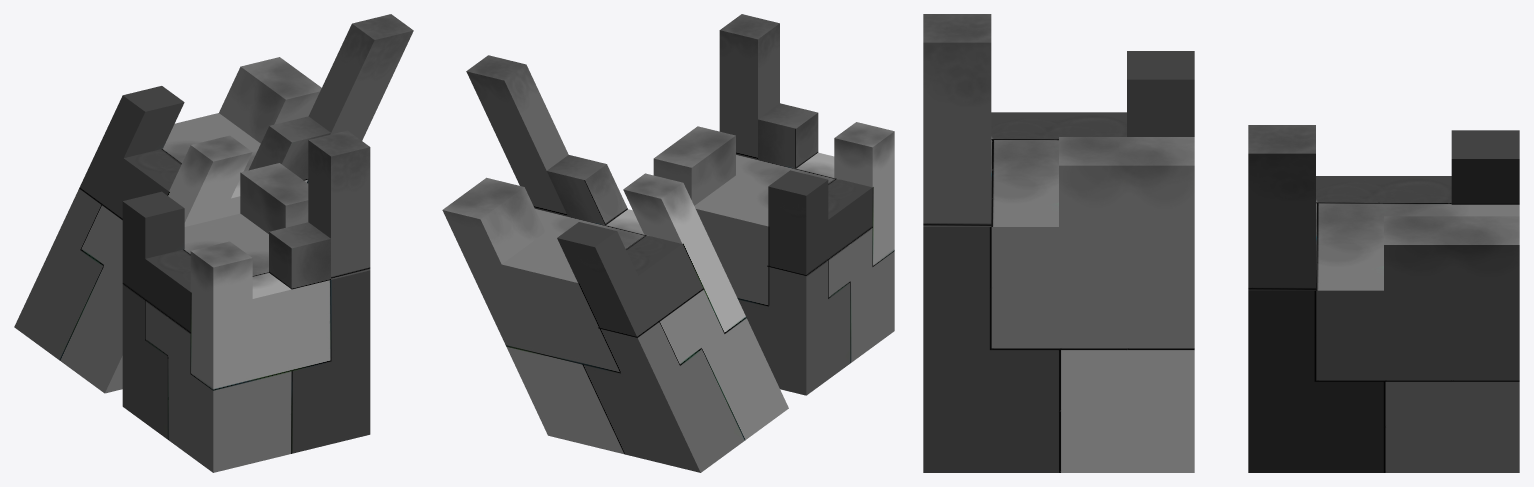
The model's file is brokenwalls.fbx.
3 renders of one model, left to right at view 1: azimuth 30°, elevation 25°; view 2: azimuth 150°, elevation 25°; view 3: azimuth 270°, elevation 25°, orthographic. The views are drawn at different scales.
Visible parts, largest first — view 1: broken_normal, broken_tilted; view 2: broken_tilted, broken_normal; view 3: broken_normal, broken_tilted.
Boxes of the visible parts, left/top/right/bottom form: broken_normal: left=122, top=130, right=370, bottom=472; broken_tilted: left=14, top=14, right=413, bottom=393; broken_tilted: left=442, top=55, right=788, bottom=472; broken_normal: left=653, top=14, right=894, bottom=395; broken_normal: left=923, top=14, right=1194, bottom=472; broken_tilted: left=1248, top=125, right=1519, bottom=472.
Size of the model in its own units: 394 by 350 by 440.
